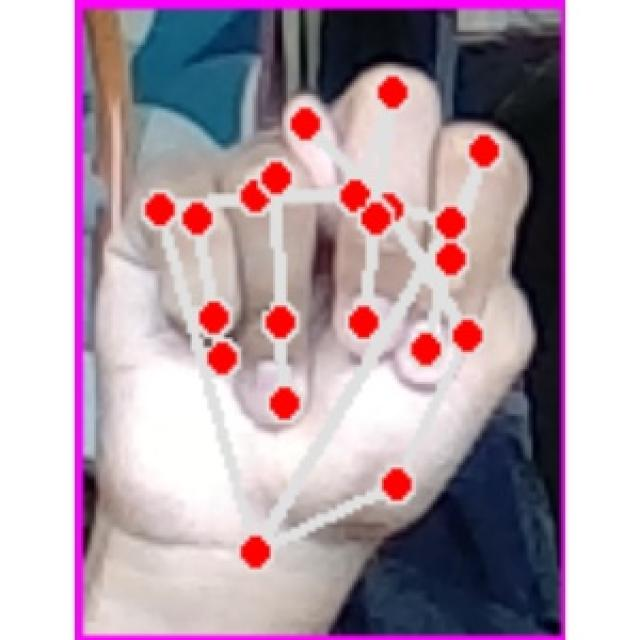N: (92, 56, 553, 582)
